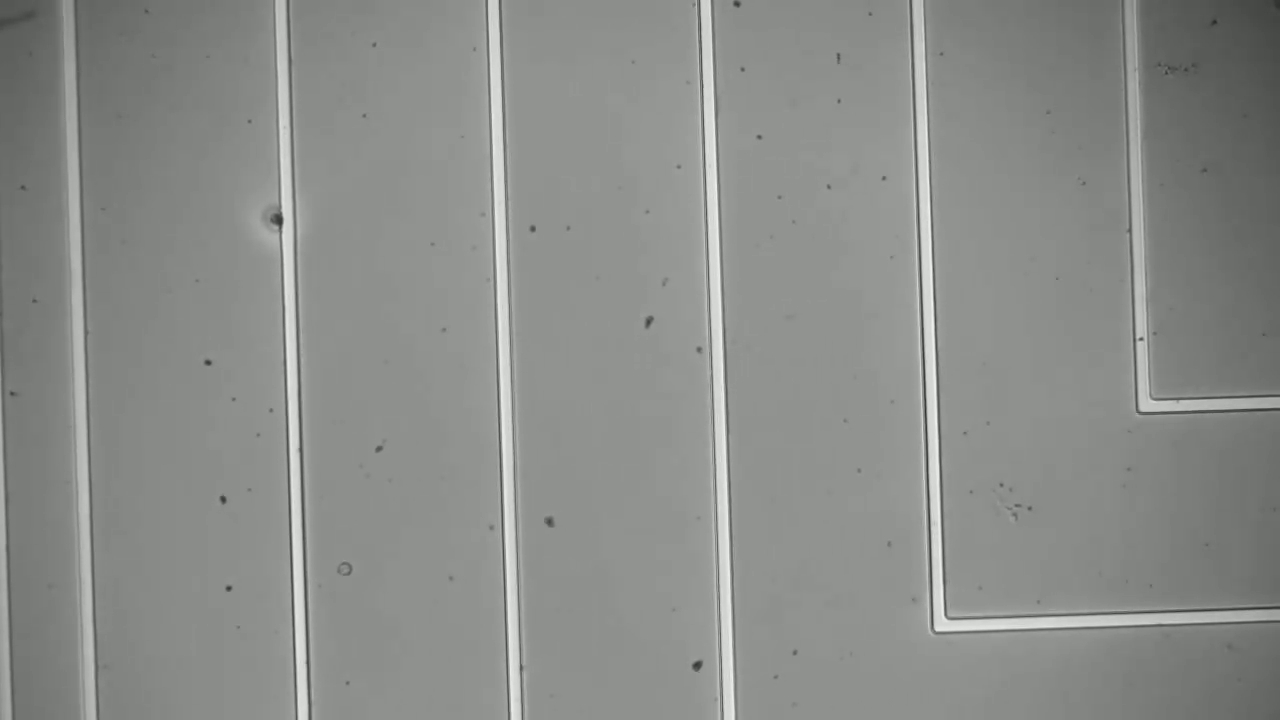stains_enbedded: (258, 199, 308, 245)
